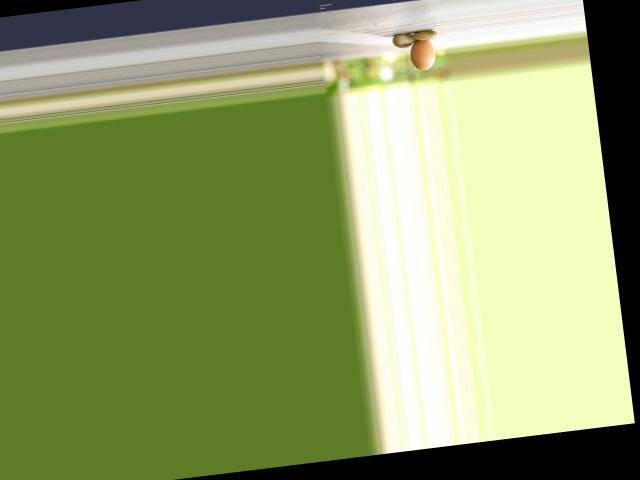egg: (407, 38, 436, 70)
